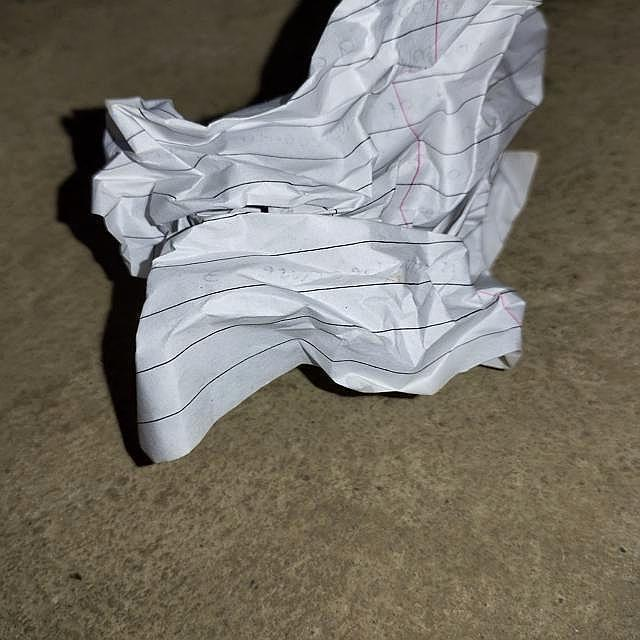Biodegradable: (97, 1, 548, 463)
